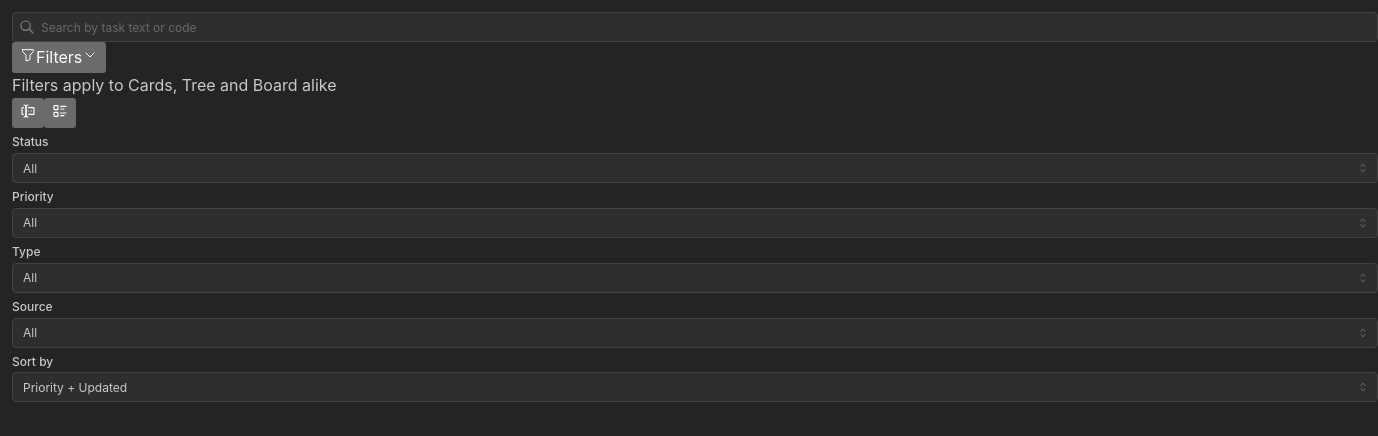
Test: TaskFilters — sk-86 priority dimension › offers All + P0..P4
The image size is (1378, 436).
Click the field labelled "Priority" at (695, 223), box [12,208,1377,238]
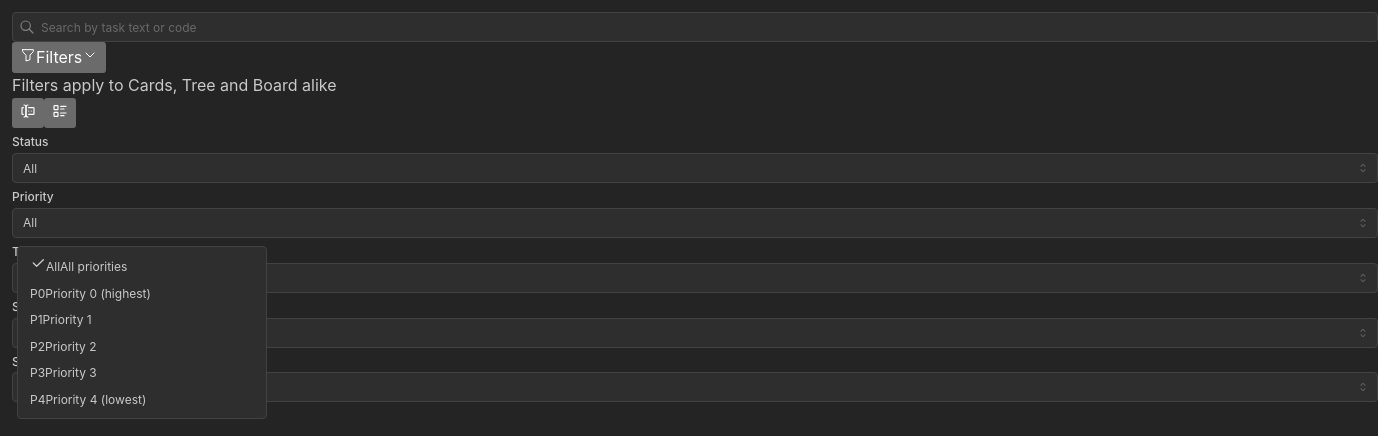
Result: the option "All" is shown at [30,255,127,274]
Result: the option "P0Priority 0 (highest)" is shown at [30,286,151,301]
Result: the option "P1Priority 1" is shown at [30,312,92,327]
